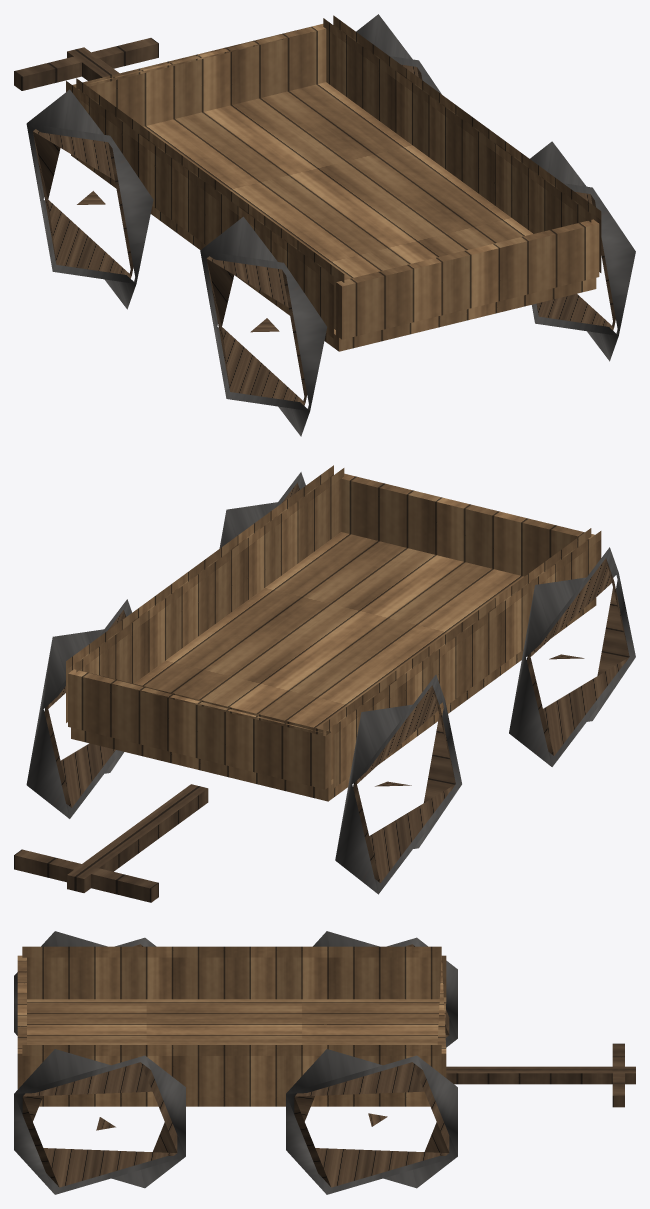
File: Prop_Wagon_LOD2.gltf
3 views of the same model, one above another, from view 1: azimuth 30°, elevation 25°; view 2: azimuth 150°, elevation 25°; view 3: azimuth 270°, elevation 25° (orthographic). The views are drawn at different scales.
Visible parts, largest first — view 1: Prop_Wagon_LOD2; view 2: Prop_Wagon_LOD2; view 3: Prop_Wagon_LOD2.
Boxes of the visible parts, box(x1,y1,x2,y2) form: Prop_Wagon_LOD2: box(14, 14, 635, 436); Prop_Wagon_LOD2: box(14, 465, 635, 902); Prop_Wagon_LOD2: box(14, 931, 635, 1194).
Bounding box in the file's own units: 1.95 × 0.9884 × 3.99.
Materials: 3 (3 with a texture image).
